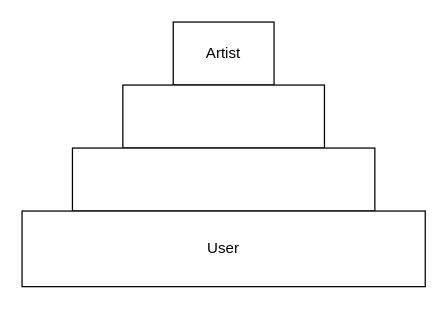
Some shapes in this 447 by 309 pixel diagram are drawn without their labels. The box of each missing label's shape, as (x1, y1, x2, y2) in pixels:
Art Developer: (122, 84, 324, 148)
Prompter: (71, 147, 375, 211)
